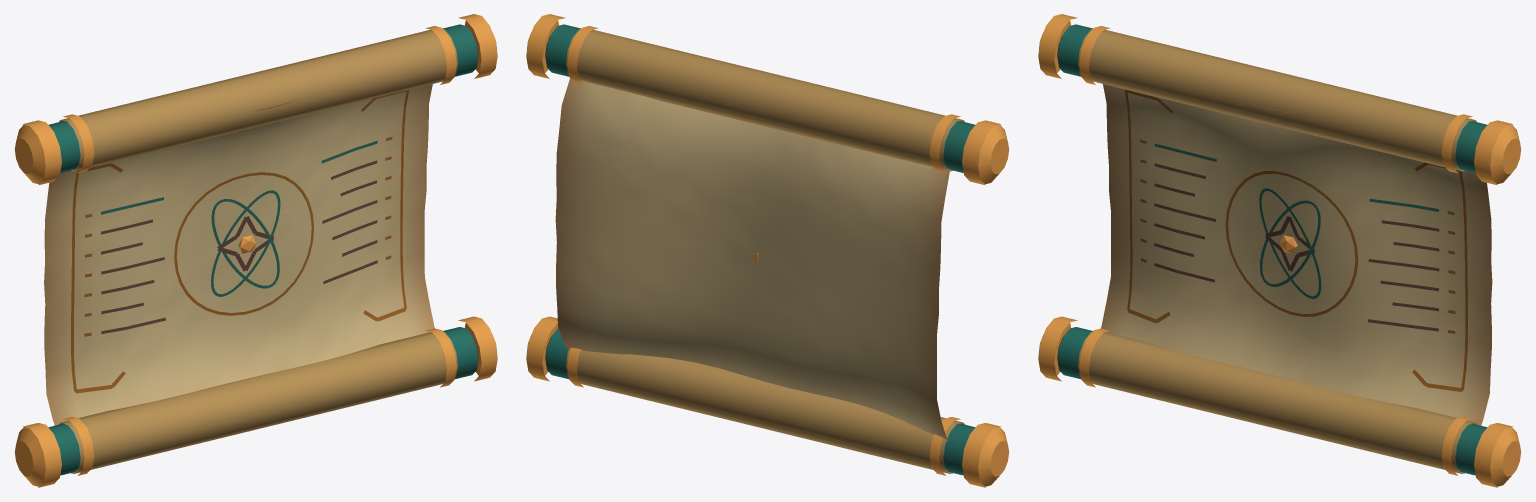
File: royal_papyrus_scroll.glb
3 renders of one model, left to right at view 1: azimuth 30°, elevation 25°; view 2: azimuth 150°, elevation 25°; view 3: azimuth 330°, elevation 25°, orthographic.
Parts seen in each view (by area): view 1: Royal Papyrus Scroll; view 2: Royal Papyrus Scroll; view 3: Royal Papyrus Scroll.
Part boxes in pixels (bbox=[...]): Royal Papyrus Scroll: bbox=[14, 14, 497, 487]; Royal Papyrus Scroll: bbox=[526, 14, 1009, 487]; Royal Papyrus Scroll: bbox=[1038, 14, 1521, 487].
Size of the model in its own units: 2.15 by 1.59 by 0.301.
